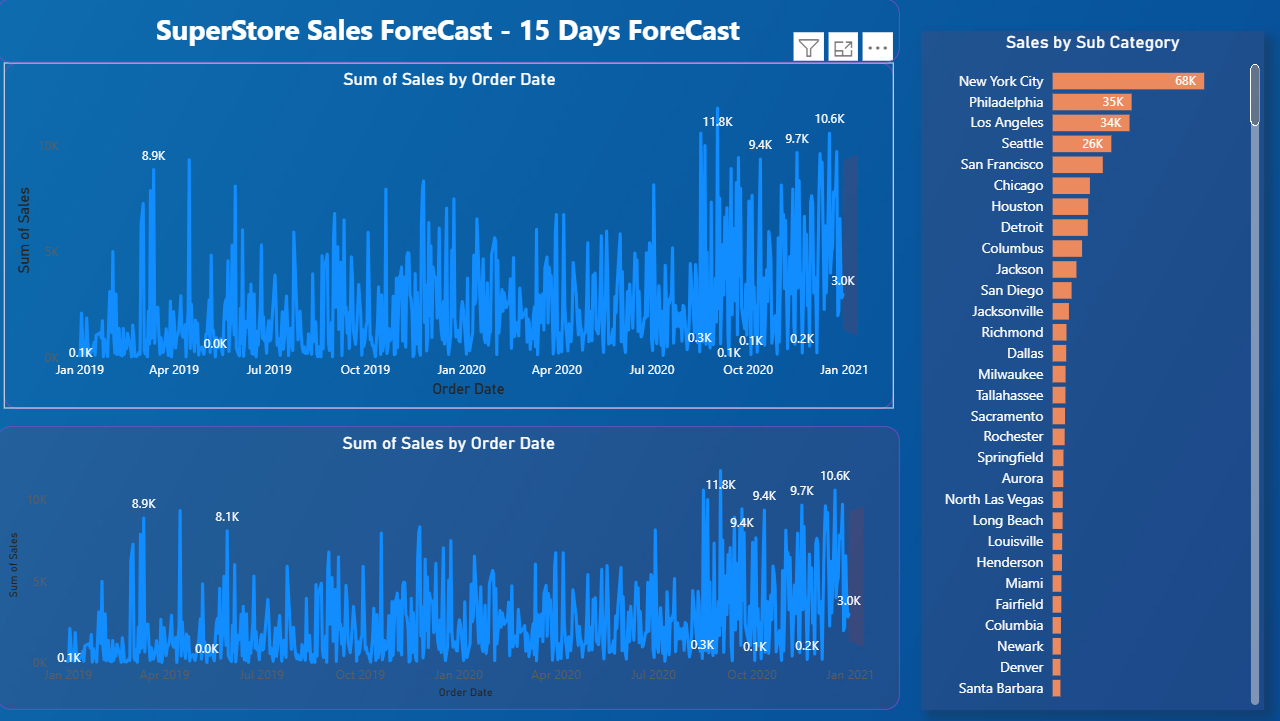

Layout of this report page (visuals, bound fields, positions):
{"tool":"powerbi","page":{"name":"Page 2","canvas":[1280,720],"ordinal":1},"visuals":[{"type":"lineChart","fields":{"Y":["Sum(SuperStore_Sales_Dataset.Sales)"],"Category":["SuperStore_Sales_Dataset.Order Date"]},"box":[15.7,421,872.3,273.9],"z":0},{"type":"lineChart","fields":{"Y":["Sum(SuperStore_Sales_Dataset.Sales)"],"Category":["SuperStore_Sales_Dataset.Order Date"]},"box":[22.9,70,859,334.2],"z":1000},{"type":"clusteredBarChart","title":"Sales by Sub Category","fields":{"Category":["SuperStore_Sales_Dataset.City","SuperStore_Sales_Dataset.State","SuperStore_Sales_Dataset.Country"],"Y":["Sum(SuperStore_Sales_Dataset.Sales)"]},"box":[908.6,40.4,331.4,655.4],"z":2000},{"type":"textbox","box":[15.7,8.4,872.3,61.5],"z":2001}]}

Visuals, with their boxes in screenshot pixels (x1, y1, x2, y2), scaled from the page's 1280x720 canvas onto the 1280x721 screenshot:
lineChart - Sum(SuperStore_Sales_Dataset.Sales) x SuperStore_Sales_Dataset.Order Date: box=[16, 422, 888, 696]
lineChart - Sum(SuperStore_Sales_Dataset.Sales) x SuperStore_Sales_Dataset.Order Date: box=[23, 70, 882, 405]
"Sales by Sub Category" clusteredBarChart: box=[909, 40, 1240, 697]
textbox: box=[16, 8, 888, 70]
